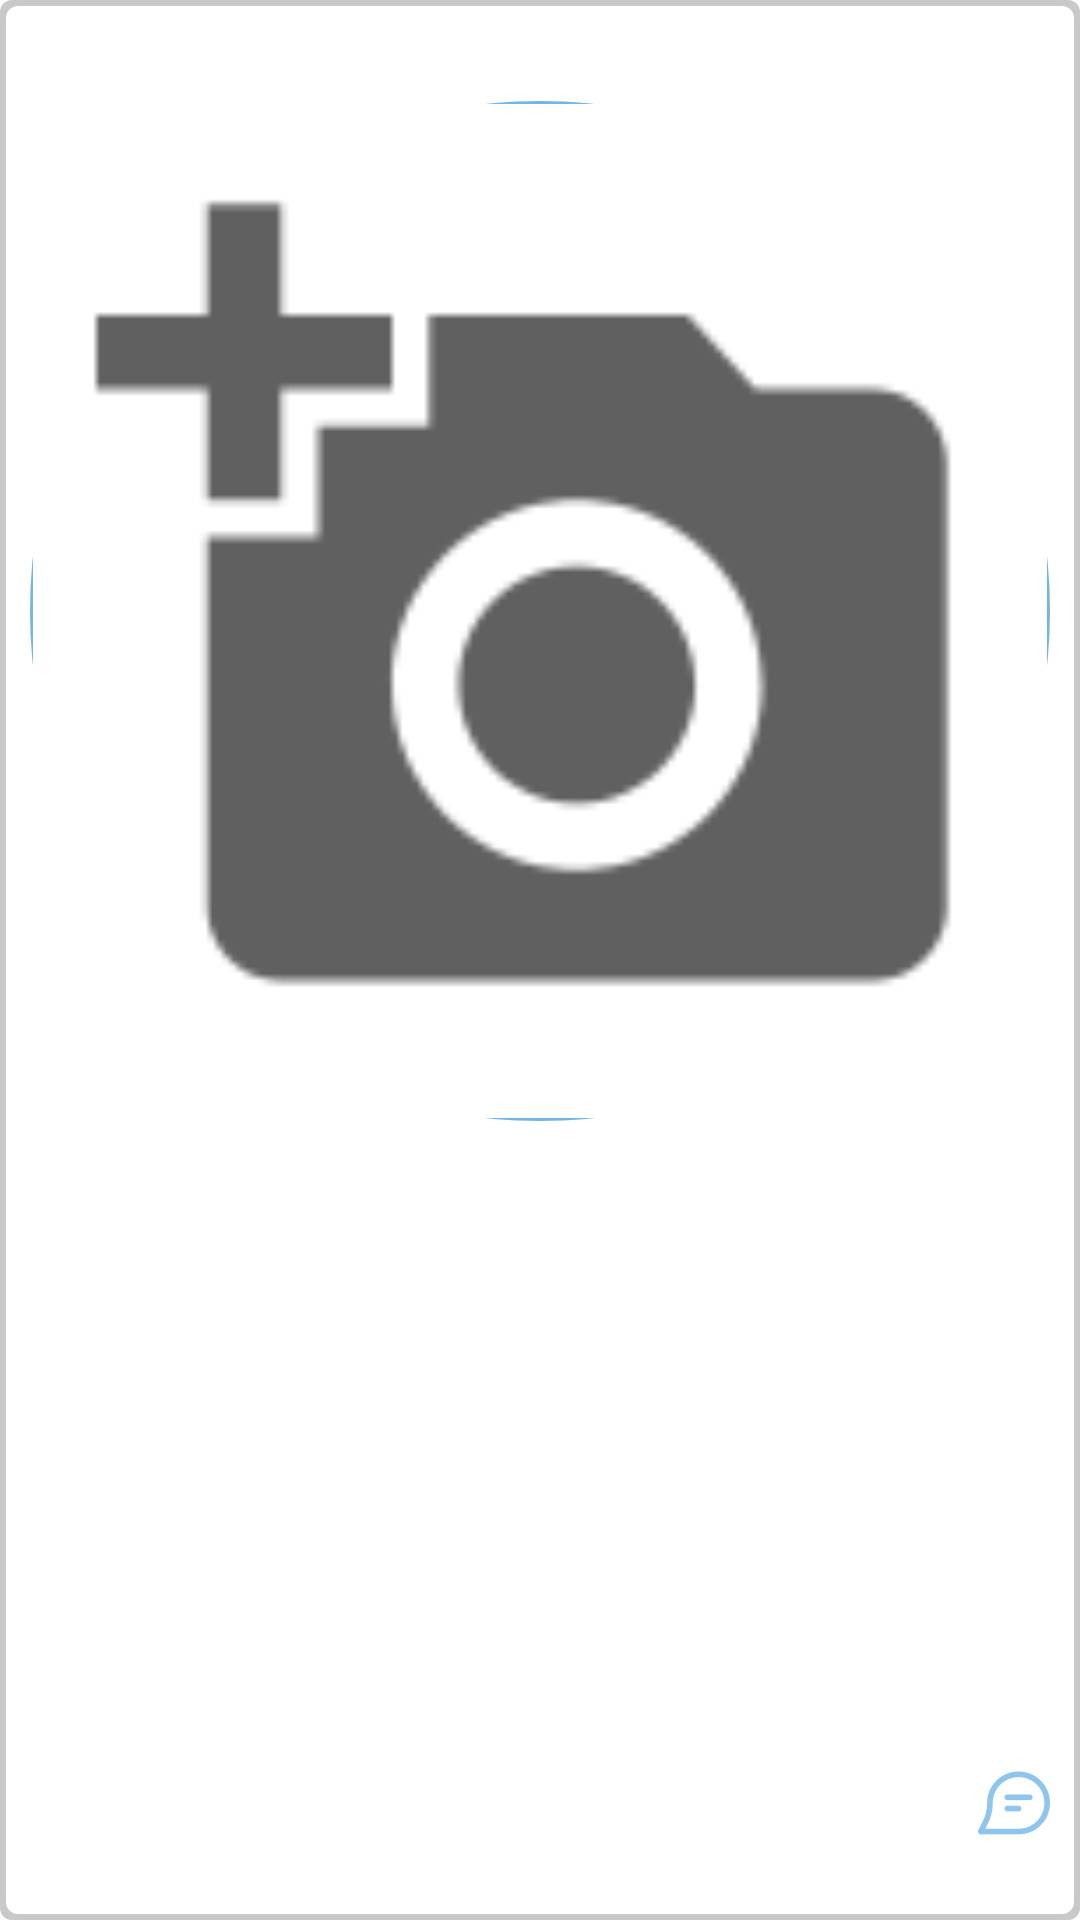

Point at icon controls on the screen. Image size 1080 x 1920, points as point (x, y).
chat enable: point (1014, 1803)
